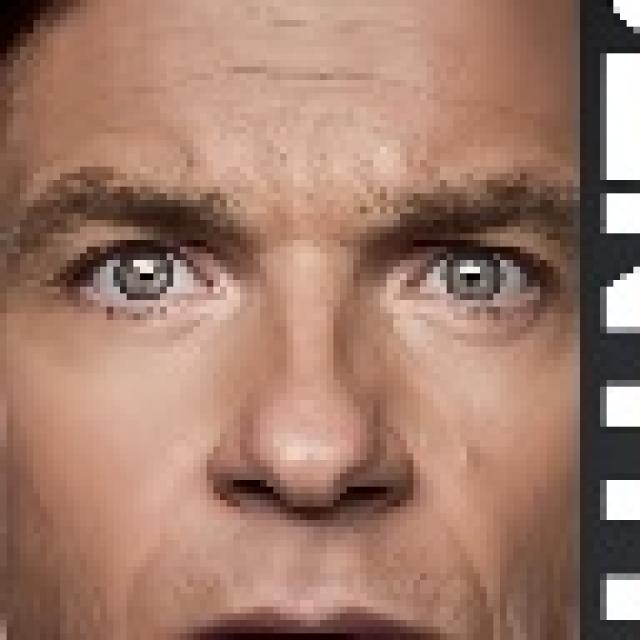angry: (20, 26, 580, 640)
